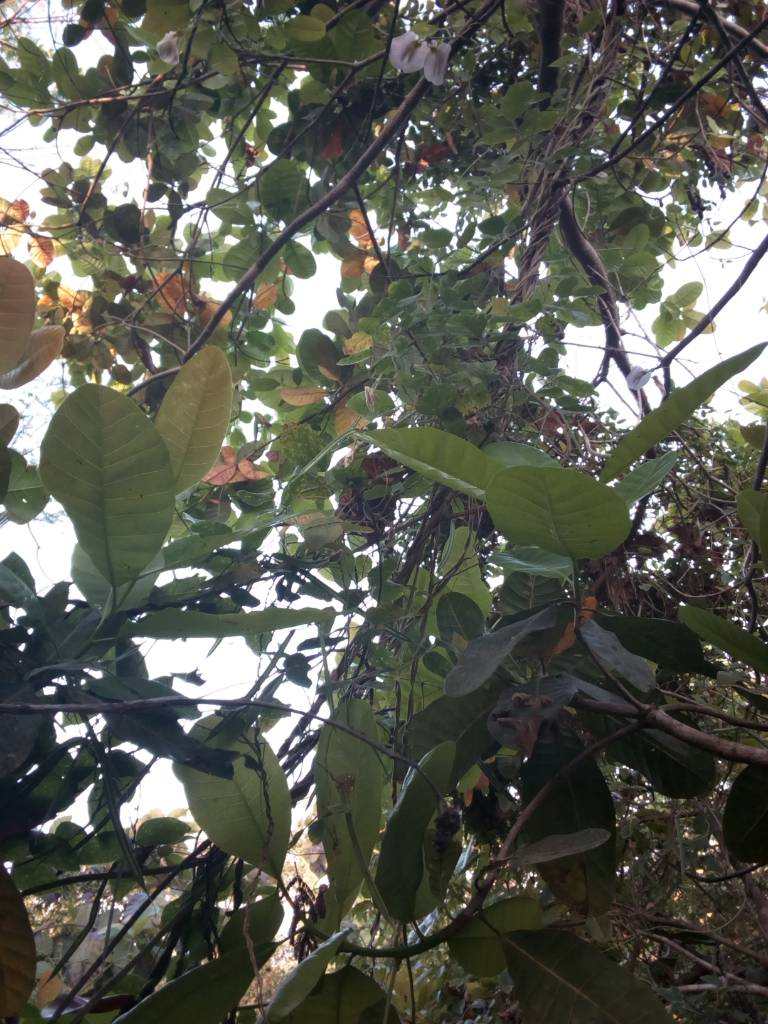Dessèchement des bourgeons: (277, 876, 333, 971), (423, 800, 475, 869)
